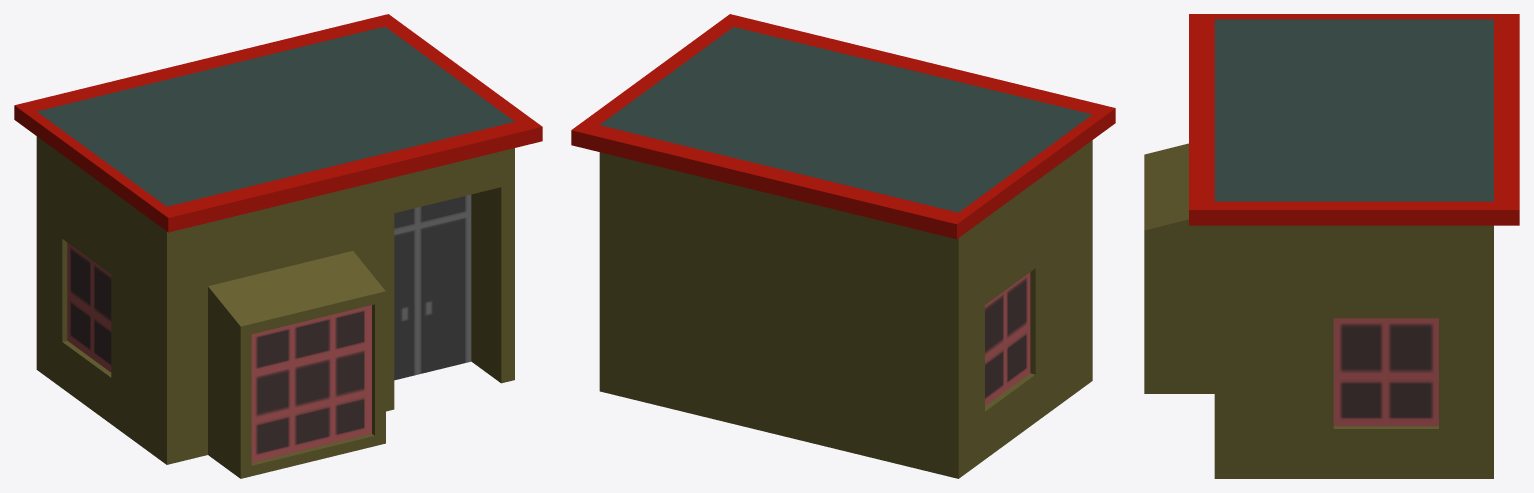
File: building8a.FBX
3 renders of one model, left to right at view 1: azimuth 30°, elevation 25°; view 2: azimuth 150°, elevation 25°; view 3: azimuth 270°, elevation 25°, orthographic. The views are drawn at different scales.
Parts seen in each view (by area): view 1: building8a; view 2: building8a; view 3: building8a.
Part boxes in pixels (x1,y1,x2,y2): building8a: (14,14,542,478); building8a: (571,14,1115,478); building8a: (1144,14,1519,478).
Size of the model in its own units: 12.91 by 8.52 by 10.45.
